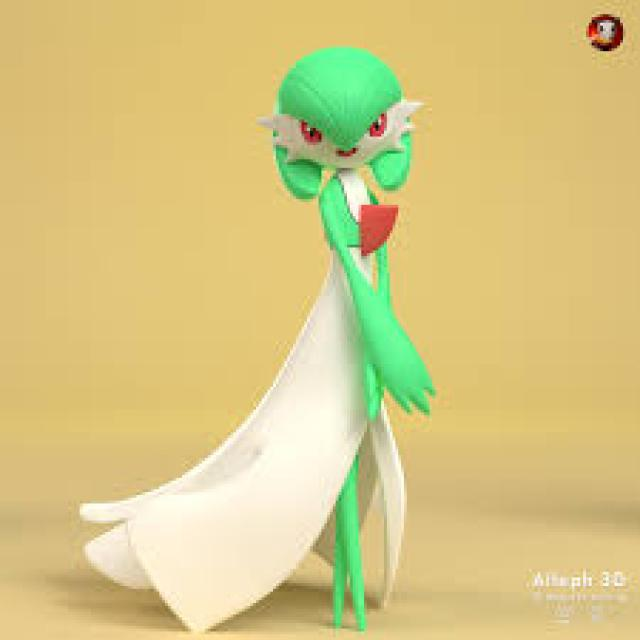gardevoir: (78, 47, 474, 640)
